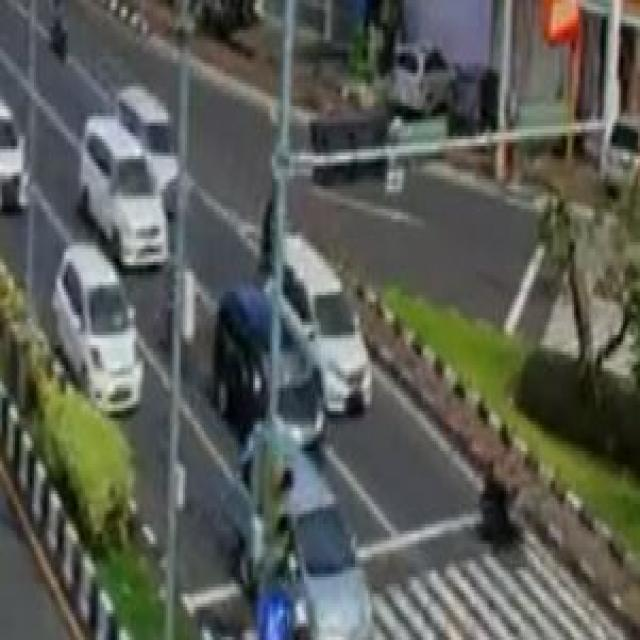car: (216, 421, 388, 640), (265, 221, 384, 415), (216, 279, 338, 454), (52, 240, 159, 419), (83, 104, 180, 275)
